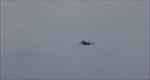maybay_muctieu: (78, 39, 94, 48)
